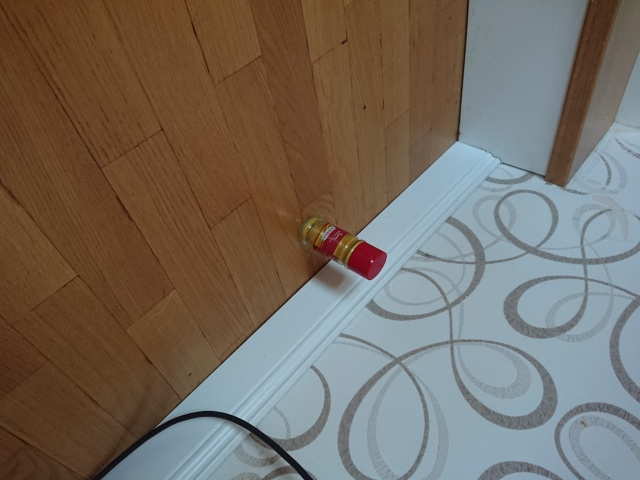Kotanyi Curry Spices Mix 70g: (296, 214, 389, 282)
